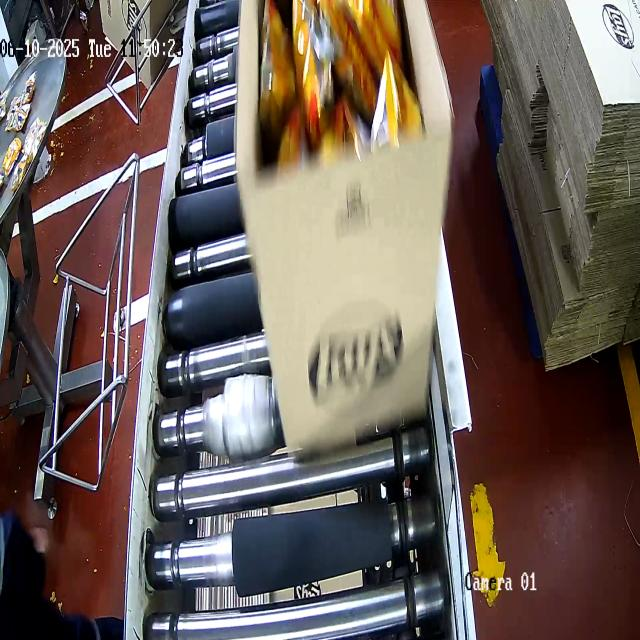FRENCH_CHEESE: (256, 0, 405, 171)
